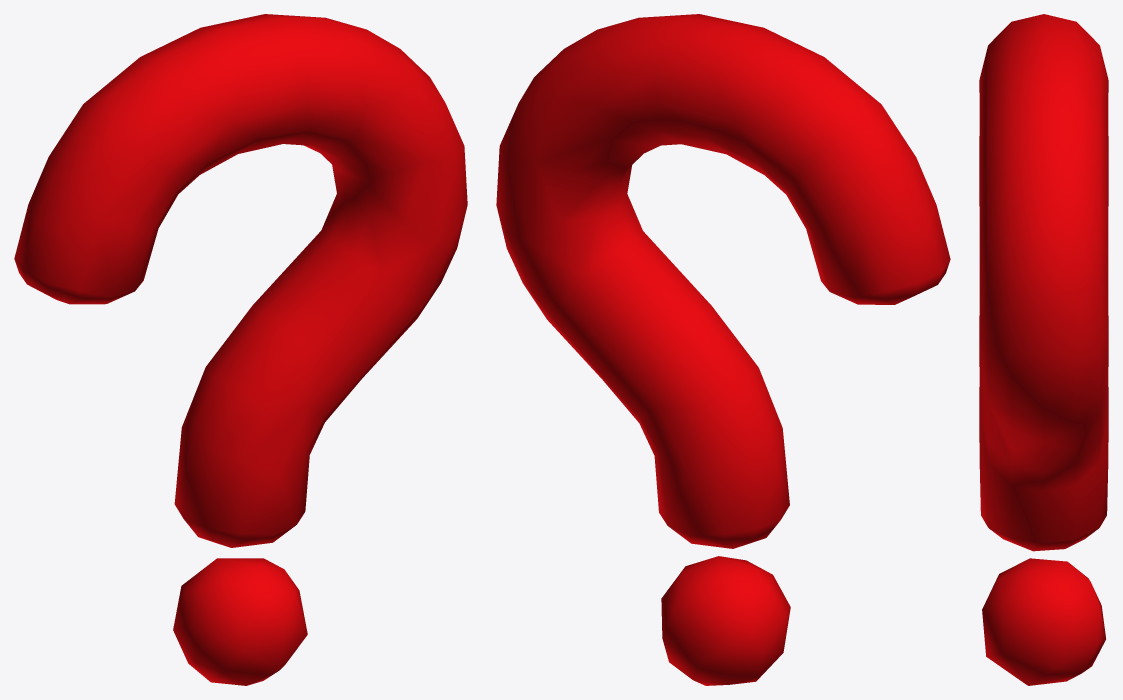
The model's file is Question Mark.fbx.
3 renders of one model, left to right at view 1: azimuth 30°, elevation 25°; view 2: azimuth 150°, elevation 25°; view 3: azimuth 270°, elevation 25°, orthographic. The views are drawn at different scales.
Visible parts, largest first — view 1: BezierCurve, Cube; view 2: BezierCurve, Cube; view 3: BezierCurve, Cube.
Part boxes in pixels (x1,y1,x2,y2): BezierCurve: [14, 14, 467, 547]; Cube: [173, 558, 307, 685]; BezierCurve: [496, 14, 950, 548]; Cube: [661, 556, 790, 685]; BezierCurve: [979, 14, 1108, 551]; Cube: [982, 558, 1105, 685].
Size of the model in its own units: 21.43 by 30.66 by 5.6.
